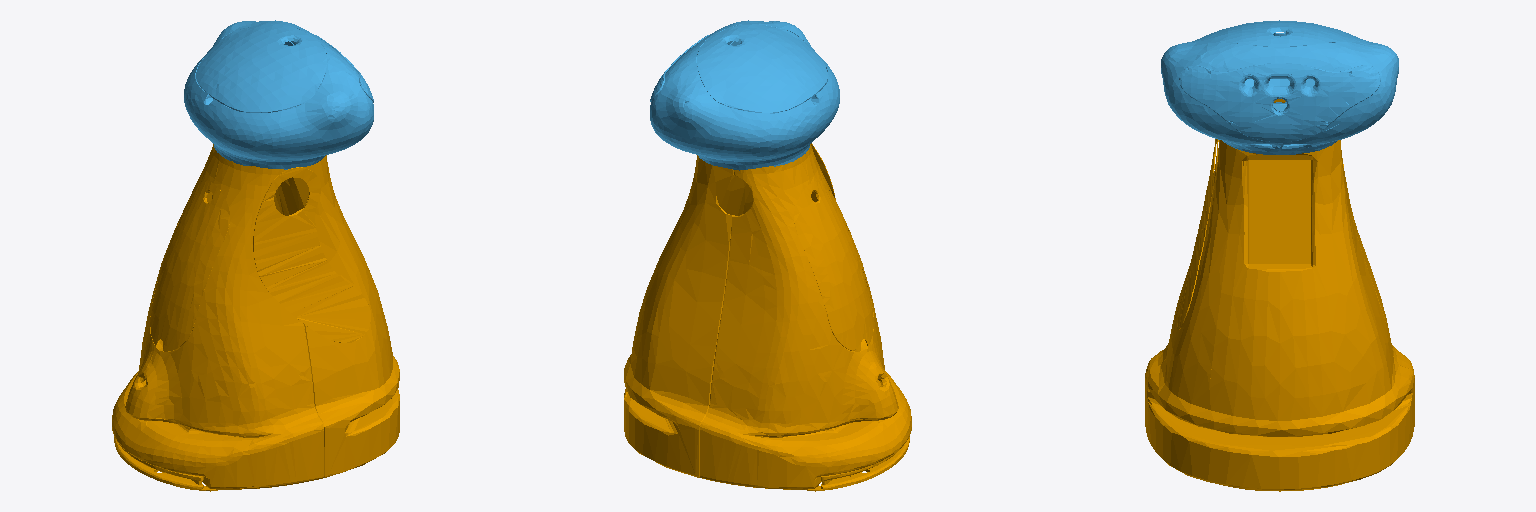
The robot description file, URDF, robot "mbot":
<?xml version="1.0" ?>
<!-- =================================================================================== -->
<!-- |    This document was autogenerated by xacro from mbot.urdf.xacro                | -->
<!-- |    EDITING THIS FILE BY HAND IS NOT RECOMMENDED                                 | -->
<!-- =================================================================================== -->
<robot name="mbot" xmlns:xacro="http://www.ros.org/wiki/xacro">
  <link name="mbot_base_link">
    <visual>
      <geometry>
        <mesh filename="package://mbot_simulator/meshes/mbot_body.dae"/>
      </geometry>
      <origin rpy="1.57079632679 0 1.57079632679" xyz="0 0 0.025"/>
    </visual>
    <collision>
      <geometry>
        <mesh filename="package://mbot_simulator/meshes/mbot_body.dae"/>
      </geometry>
      <origin rpy="1.57079632679 0 1.57079632679" xyz="0 0 0.025"/>
    </collision>
    <inertial>
      <mass value="50.0"/>
      <origin xyz="0.0 0.0 0.0"/>
      <inertia ixx="1.0" ixy="0.0" ixz="0.0" iyy="1.0" iyz="0.0" izz="1.0"/>
    </inertial>
  </link>
  <link name="mbot_head_link">
    <visual>
      <geometry>
        <mesh filename="package://mbot_simulator/meshes/mbot_head.dae"/>
      </geometry>
      <origin rpy="1.57079632679 0 1.57079632679" xyz="-0.05 0 0"/>
    </visual>
    <collision>
      <geometry>
        <mesh filename="package://mbot_simulator/meshes/mbot_head.dae"/>
      </geometry>
      <origin rpy="1.57079632679 0 1.57079632679" xyz="-0.05 0 0"/>
    </collision>
    <inertial>
      <mass value="50.0"/>
      <origin xyz="0.0 0.0 0.0"/>
      <inertia ixx="1.0" ixy="0.0" ixz="0.0" iyy="1.0" iyz="0.0" izz="1.0"/>
    </inertial>
  </link>
  <joint name="mbot_head_joint" type="revolute">
    <parent link="mbot_base_link"/>
    <child link="mbot_head_link"/>
    <limit effort="100.0" lower="-1.57079632679" upper="1.57079632679" velocity="1.0"/>
    <axis xyz="0 0 1"/>
    <origin xyz="0.05 0 0"/>
  </joint>
</robot>

--- What the picture shows (computed from the rendered views, not written in the file) ---
3 views of the same robot in one strip: view 1: azimuth 30°, elevation 25°; view 2: azimuth 150°, elevation 25°; view 3: azimuth 270°, elevation 25° (orthographic).
Model mbot with 2 links and 1 joints (1 revolute), rooted at mbot_base_link, posed all joints at 0.
Links seen in each view (by area): view 1: mbot_base_link, mbot_head_link; view 2: mbot_base_link, mbot_head_link; view 3: mbot_base_link, mbot_head_link.
Link boxes in pixels (x1,y1,x2,y2): mbot_base_link: (112,144,399,491); mbot_head_link: (184,20,373,169); mbot_base_link: (624,143,911,491); mbot_head_link: (650,20,839,170); mbot_base_link: (1145,99,1414,491); mbot_head_link: (1161,20,1398,154).
Bounding box of the posed robot: 0.669 × 0.572 × 0.973 m (x, y, z).
2 mesh visuals loaded from 2 distinct referenced files (2 Collada DAE).